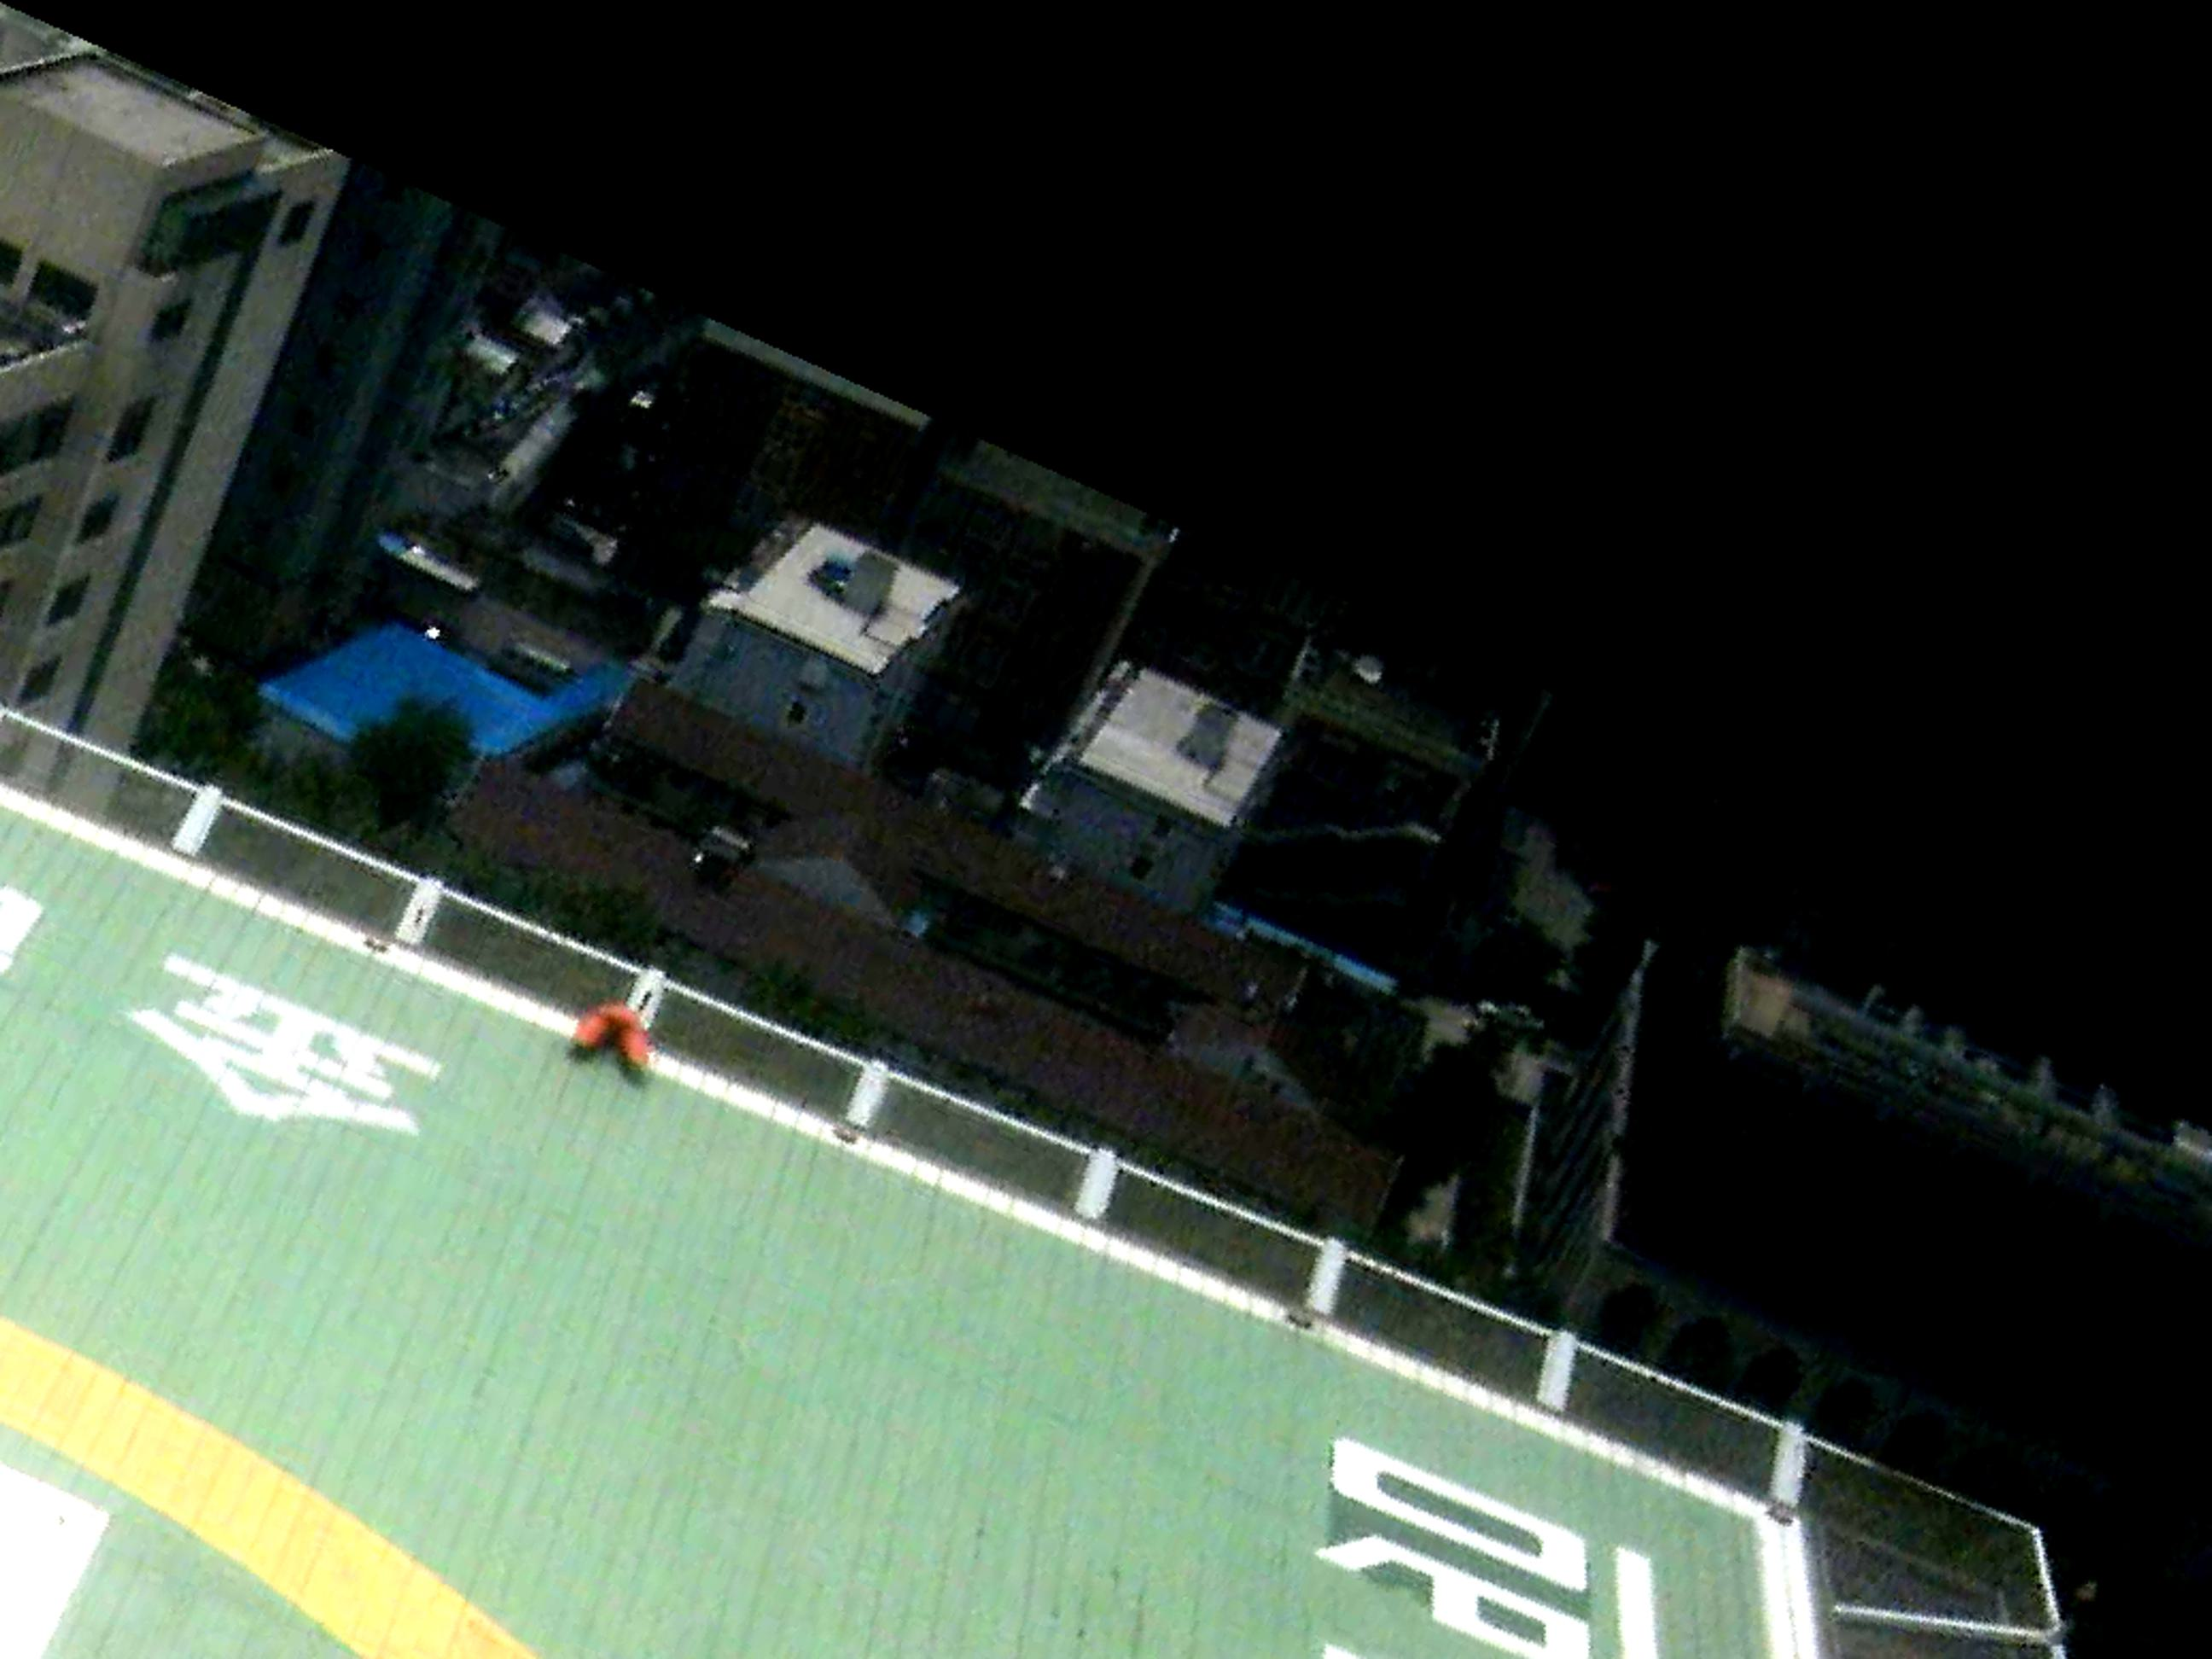Apron: (0, 1312, 606, 1657)
